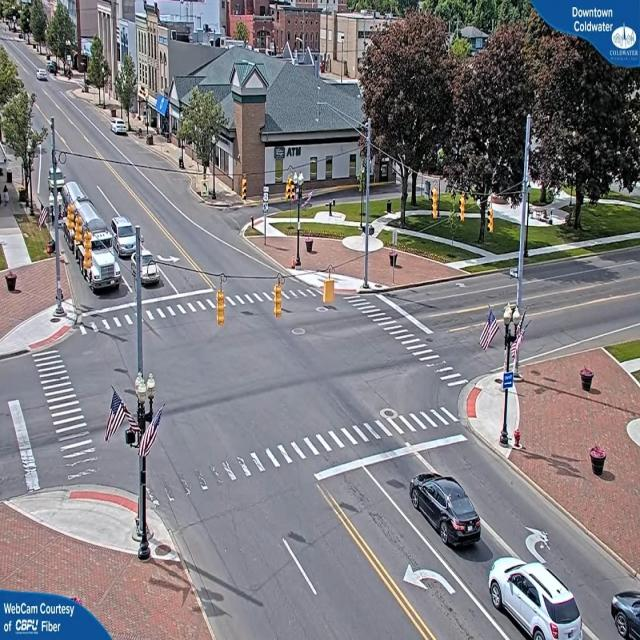car: (491, 561, 586, 640), (410, 477, 482, 551), (611, 590, 640, 639), (109, 218, 142, 258), (142, 256, 162, 287), (112, 121, 130, 138), (36, 69, 47, 81)
truck: (82, 243, 121, 293)
